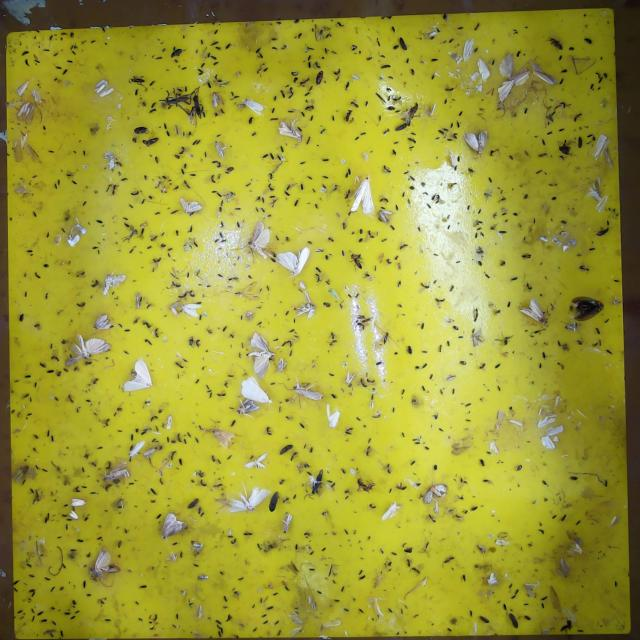Carpelimus sp: (236, 575, 247, 585), (477, 204, 486, 215), (251, 626, 259, 634), (272, 592, 281, 598), (274, 620, 282, 626), (262, 620, 270, 626), (259, 614, 268, 618)
Cofana spectra: (70, 333, 110, 365), (125, 359, 161, 393), (250, 333, 275, 376), (280, 246, 311, 279), (234, 487, 268, 517), (240, 376, 273, 403), (245, 227, 271, 260), (384, 499, 412, 527), (520, 298, 548, 325), (462, 129, 491, 155), (102, 271, 127, 301), (322, 404, 349, 430), (90, 311, 116, 332), (66, 224, 88, 247), (177, 198, 204, 215), (182, 303, 199, 325)
Elaphropus sp: (171, 150, 181, 162)
Paederus fuscipes: (546, 29, 566, 55), (124, 69, 149, 88), (348, 250, 366, 270)
Sepedon sphegea: (404, 97, 426, 128), (436, 194, 447, 208), (199, 478, 211, 488), (196, 471, 207, 477)
